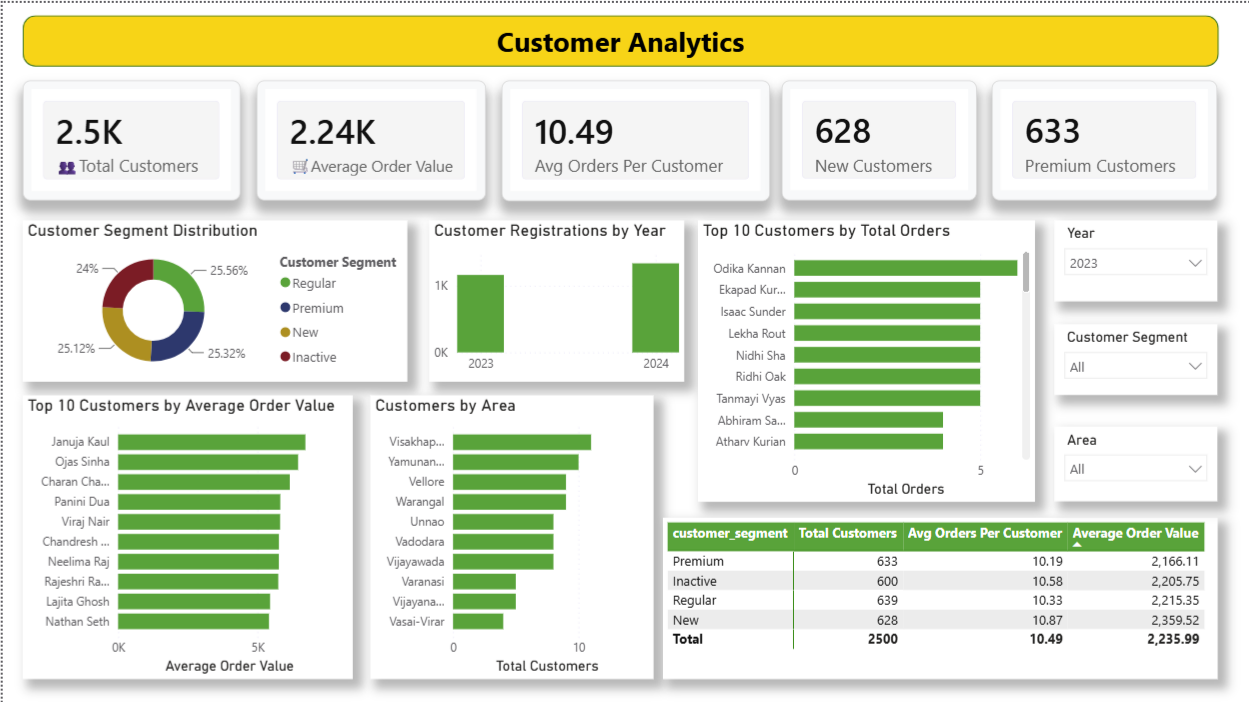

This screenshot's page, from the dashboard's own definition file:
{"tool":"powerbi","page":{"name":"Customer Analytics","canvas":[1280,720],"ordinal":1},"visuals":[{"type":"cardVisual","fields":{"Data":["Measures (2).Total Customers"]},"box":[20,80,223.3,123.3],"z":0},{"type":"cardVisual","fields":{"Data":["Measures (2).Average Order Value"]},"box":[260,80,235,123.3],"z":1000},{"type":"cardVisual","fields":{"Data":["Measures (2).Avg Orders Per Customer"]},"box":[510.9,80,275.5,123.6],"z":2000},{"type":"cardVisual","fields":{"Data":["Measures (2).Premium Customers"]},"box":[1014.3,80,231.4,122.9],"z":3000},{"type":"cardVisual","fields":{"Data":["Measures (2).New Customers"]},"box":[798.6,80,200,122.9],"z":4000},{"type":"donutChart","title":"Customer Segment Distribution","fields":{"Category":["Customers.customer_segment"],"Y":["Measures (2).Total Customers"]},"box":[20,222.9,394.3,165.7],"z":5000},{"type":"clusteredColumnChart","title":"Customer Registrations by Year","fields":{"Category":["Customers.registration_date.Variation.Date Hierarchy.Year","Customers.registration_date.Variation.Date Hierarchy.Quarter","Customers.registration_date.Variation.Date Hierarchy.Month","Customers.registration_date.Variation.Date Hierarchy.Day"],"Y":["Measures (2).Total Customers"]},"box":[437.1,222.9,261.4,165.7],"z":6000},{"type":"clusteredBarChart","title":"Top 10 Customers by Total Orders","fields":{"Y":["Measures (2).Total Orders"],"Category":["Customers.customer_name"]},"box":[712.9,222.9,345.7,288.6],"z":7000},{"type":"clusteredBarChart","title":"Top 10 Customers by Average Order Value","fields":{"Category":["Customers.customer_name"],"Y":["Measures (2).Average Order Value"]},"box":[20,402.9,338.6,291.4],"z":8000},{"type":"clusteredBarChart","title":"Customers by Area","fields":{"Category":["Customers.area"],"Y":["Measures (2).Total Customers"]},"box":[377.1,402.9,290,291.4],"z":9000},{"type":"pivotTable","fields":{"Rows":["Customers.customer_segment"],"Values":["Measures (2).Total Customers","Measures (2).Avg Orders Per Customer","Measures (2).Average Order Value"]},"box":[677.1,528.6,568.6,165.7],"z":10000},{"type":"shape","title":"Blinkit Business Analytics Dashboard","box":[20,12.5,1226.2,52.5],"z":11000},{"type":"slicer","fields":{"Values":["Customers.customer_segment"]},"box":[1078.6,330,167.1,72.9],"z":12000},{"type":"slicer","fields":{"Values":["Customers.area"]},"box":[1078.6,434.3,167.1,77.1],"z":13000},{"type":"slicer","fields":{"Values":["Date.Year"]},"box":[1078.6,222.9,167.1,82.9],"z":14000}]}

Visuals, with their boxes in screenshot pixels (x1, y1, x2, y2), scaled from the page's 1280x720 canvas onto the 1249x702 screenshot:
cardVisual - Measures (2).Total Customers: <bbox>20, 78, 237, 198</bbox>
cardVisual - Measures (2).Average Order Value: <bbox>254, 78, 483, 198</bbox>
cardVisual - Measures (2).Avg Orders Per Customer: <bbox>499, 78, 767, 199</bbox>
cardVisual - Measures (2).Premium Customers: <bbox>990, 78, 1216, 198</bbox>
cardVisual - Measures (2).New Customers: <bbox>779, 78, 974, 198</bbox>
"Customer Segment Distribution" donutChart: <bbox>20, 217, 404, 379</bbox>
"Customer Registrations by Year" clusteredColumnChart: <bbox>427, 217, 682, 379</bbox>
"Top 10 Customers by Total Orders" clusteredBarChart: <bbox>696, 217, 1033, 499</bbox>
"Top 10 Customers by Average Order Value" clusteredBarChart: <bbox>20, 393, 350, 677</bbox>
"Customers by Area" clusteredBarChart: <bbox>368, 393, 651, 677</bbox>
pivotTable - Customers.customer_segment x Measures (2).Total Customers: <bbox>661, 515, 1216, 677</bbox>
"Blinkit Business Analytics Dashboard" shape: <bbox>20, 12, 1216, 63</bbox>
slicer - Customers.customer_segment: <bbox>1052, 322, 1216, 393</bbox>
slicer - Customers.area: <bbox>1052, 423, 1216, 499</bbox>
slicer - Date.Year: <bbox>1052, 217, 1216, 298</bbox>
